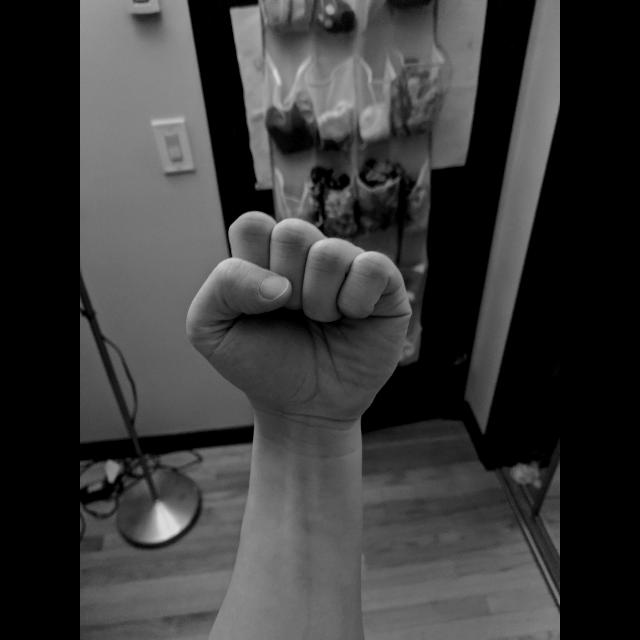S: (180, 206, 416, 430)
